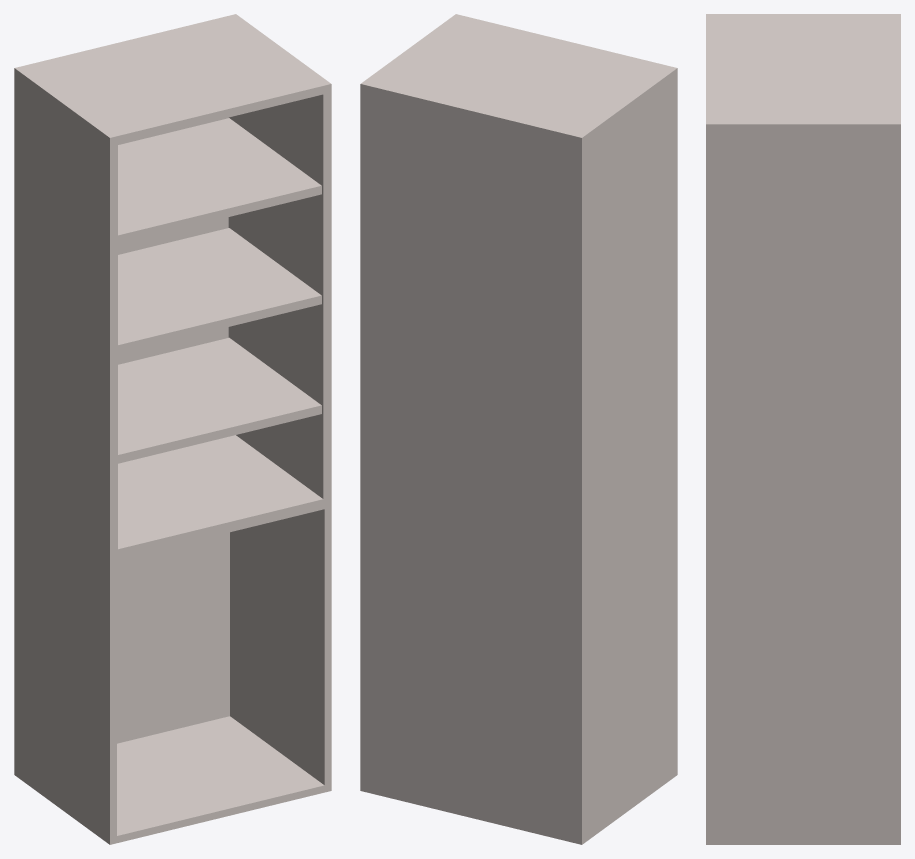
The model's file is Cupboard_07_01.fbx.
3 renders of one model, left to right at view 1: azimuth 30°, elevation 25°; view 2: azimuth 150°, elevation 25°; view 3: azimuth 270°, elevation 25°, orthographic.
Parts seen in each view (by area): view 1: Cupboard_07_01; view 2: Cupboard_07_01; view 3: Cupboard_07_01.
Part boxes in pixels (x1=…): Cupboard_07_01: x1=14, y1=14, x2=331, y2=844; Cupboard_07_01: x1=360, y1=14, x2=677, y2=844; Cupboard_07_01: x1=706, y1=14, x2=900, y2=844.
Size of the model in its own units: 65.69 by 200 by 49.04.
